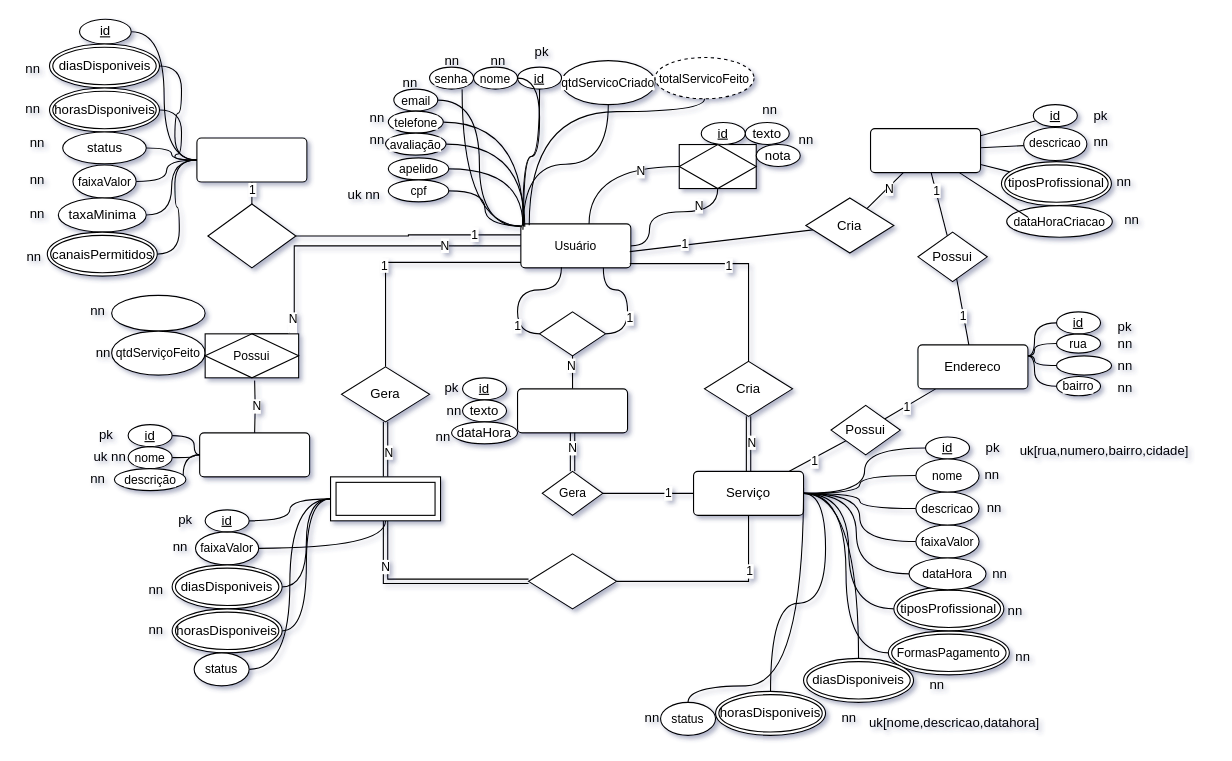
The diagram is 1232 pixels wide and 761 high, and some of its shapes have lost their labels. The shapes that lost their labels are listed below. From the top down, each one's centre as x and y in pixels, then its label:
the point at 251,159: Urgência
the point at 717,166: Avalia
the point at 925,150: ServiçoUrgente
the point at 251,235: Configura
the point at 158,312: inicioAtuação
the point at 572,333: Envia
the point at 1083,365: numero
the point at 572,410: Notificação
the point at 254,454: Profissão
the point at 385,498: Proposta
the point at 572,581: Pertence
